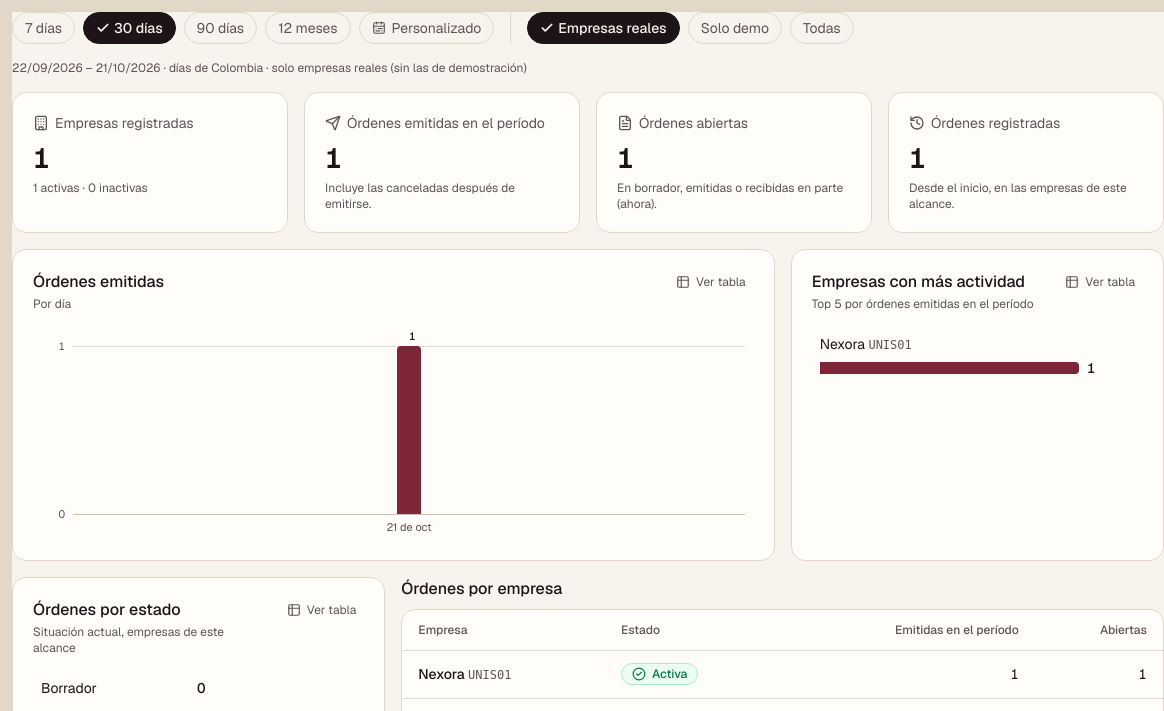
Scenario: DashboardGlobal: empresas reales y de demostración › al elegir «Solo demo» pide ese alcance y marca cada empresa demo
expect the text "solo empresas reales" is shown: met, box [272,60,527,76]
Step 1. Click the button "Solo demo" → (735, 28), box [688,12,782,44]
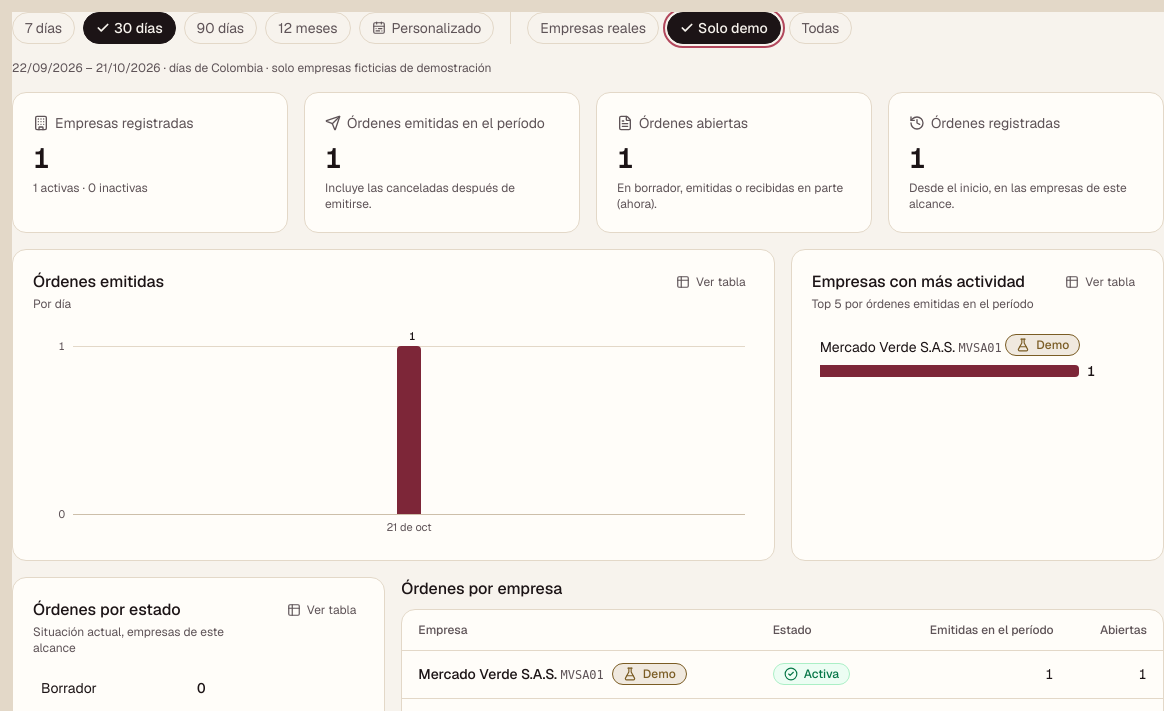
expect the text "solo empresas ficticias de demostración" is shown: met, box [272,60,492,76]
expect the 2nd text "Demo" is shown: met, box [612,663,687,685]
